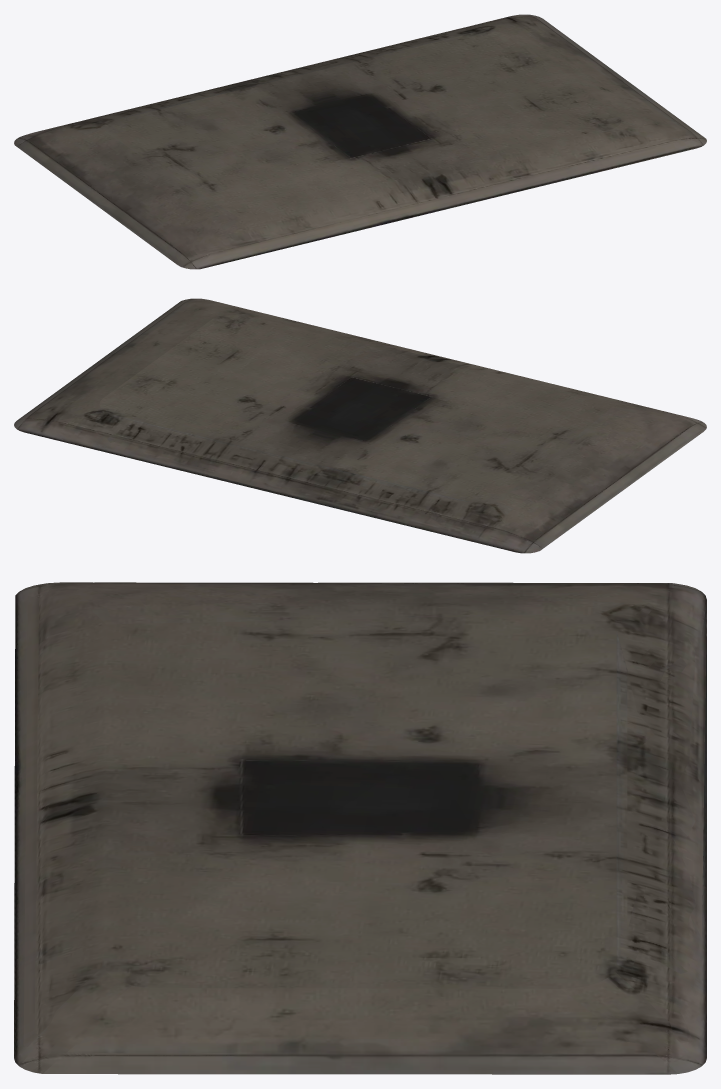
Rendered from panel__rear_shell.glb.
3 views of the same model, one above another, from view 1: azimuth 30°, elevation 25°; view 2: azimuth 150°, elevation 25°; view 3: azimuth 270°, elevation 25° (orthographic). The views are drawn at different scales.
Parts seen in each view (by area): view 1: world; view 2: world; view 3: world.
Boxes of the visible parts, bbox=[...] form: world: bbox=[14, 14, 706, 269]; world: bbox=[14, 298, 706, 553]; world: bbox=[14, 582, 706, 1074].
Size of the model in its own units: 0.54 by 0.016 by 0.322.
Materials: 1 (1 with a texture image).
